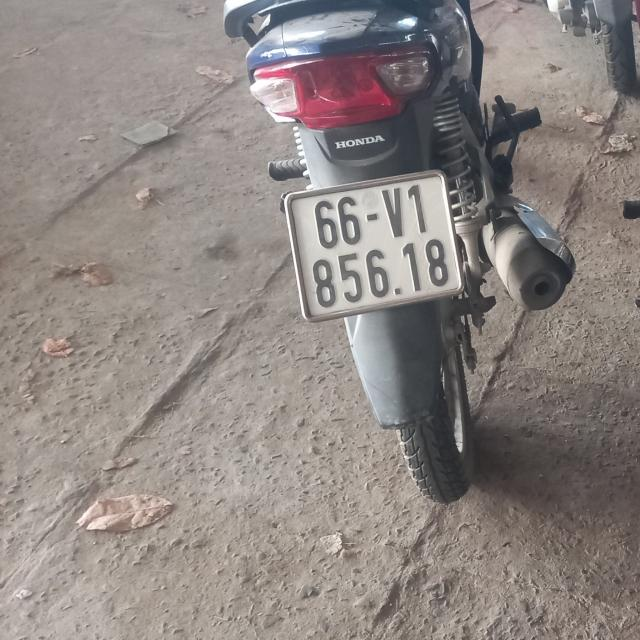1: (402, 243, 421, 291), (407, 184, 425, 233)
5: (338, 253, 362, 303)
6: (314, 200, 338, 250), (365, 249, 389, 298), (338, 196, 360, 245)
8: (424, 239, 448, 286), (312, 259, 335, 307)
V: (381, 187, 404, 239)
